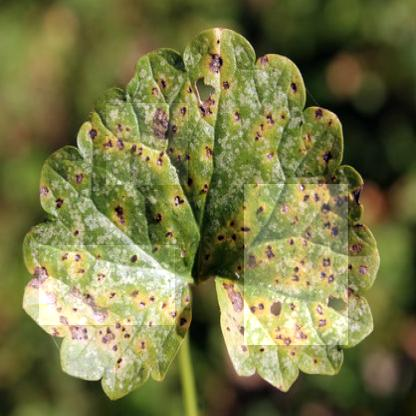black-spot: (244, 184, 348, 345), (39, 245, 175, 325), (106, 103, 188, 185)
